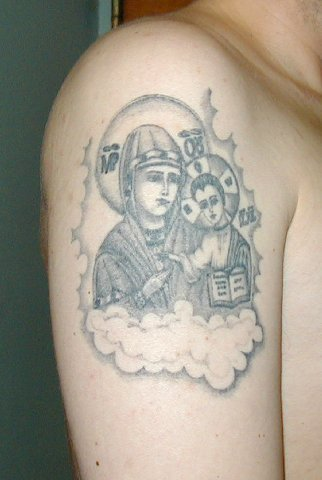tatu2_bogorodica: (85, 78, 276, 366)
